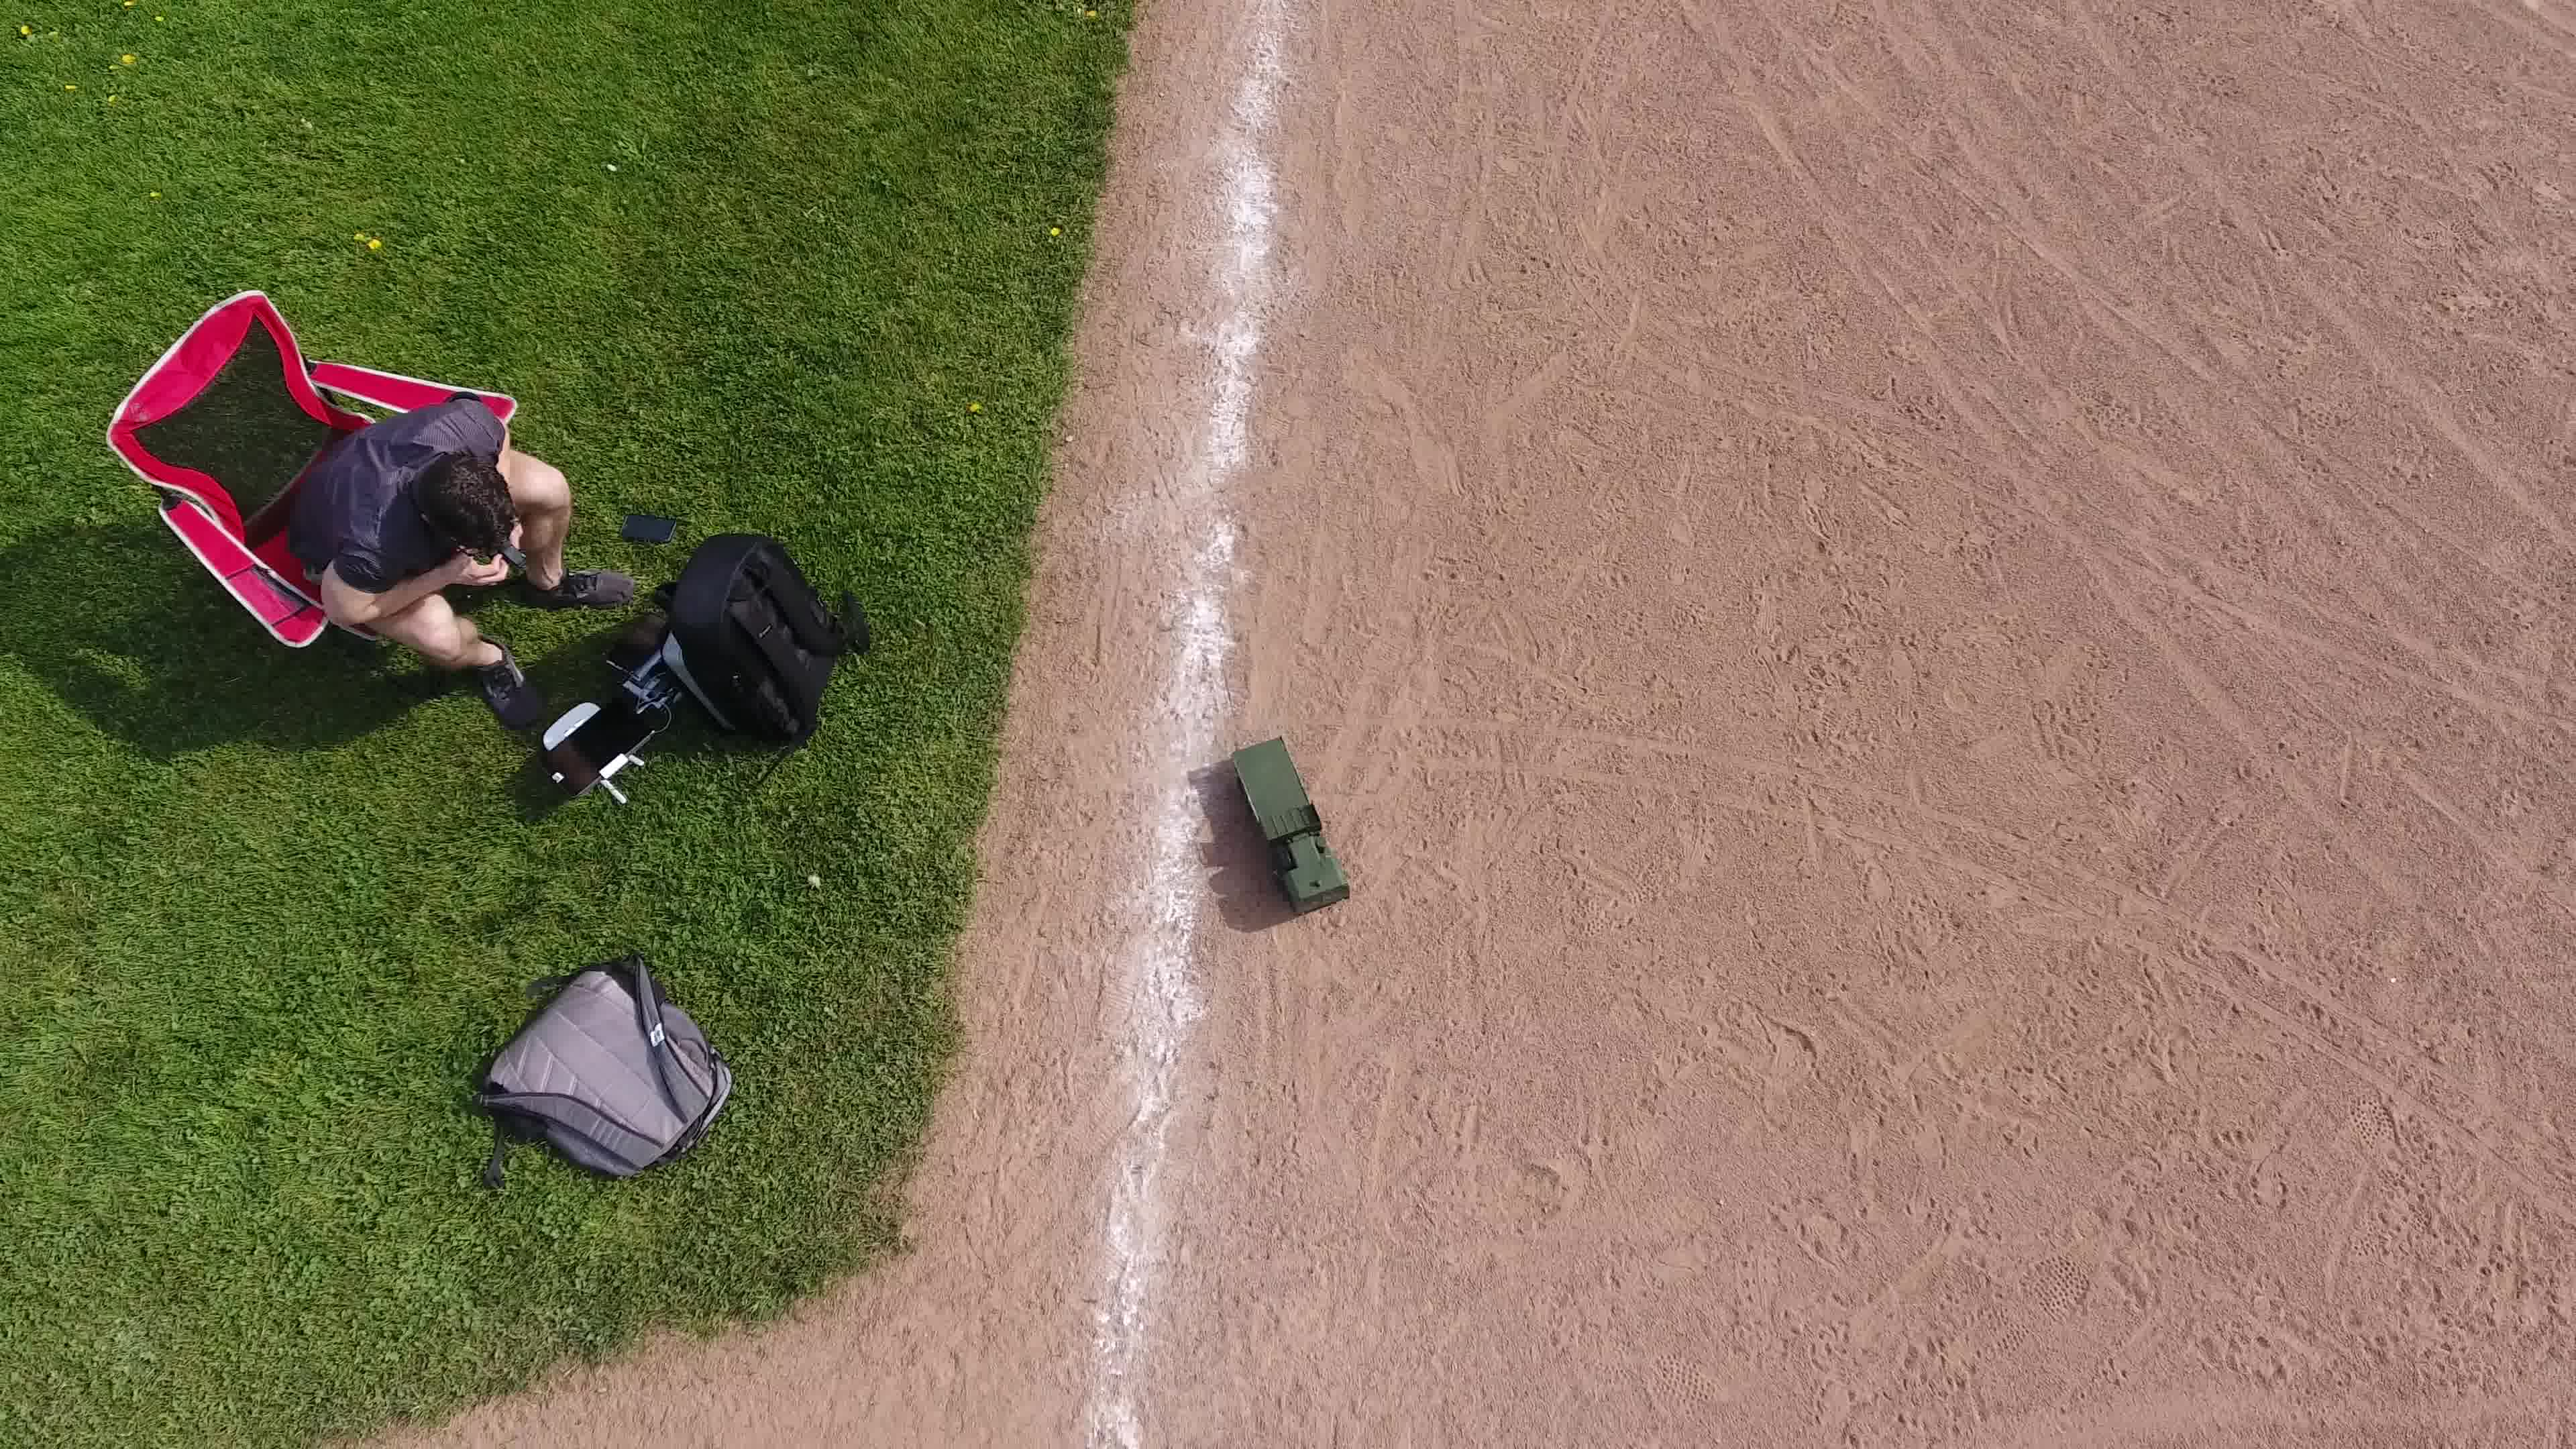transporter9: (1223, 731, 1355, 916)
